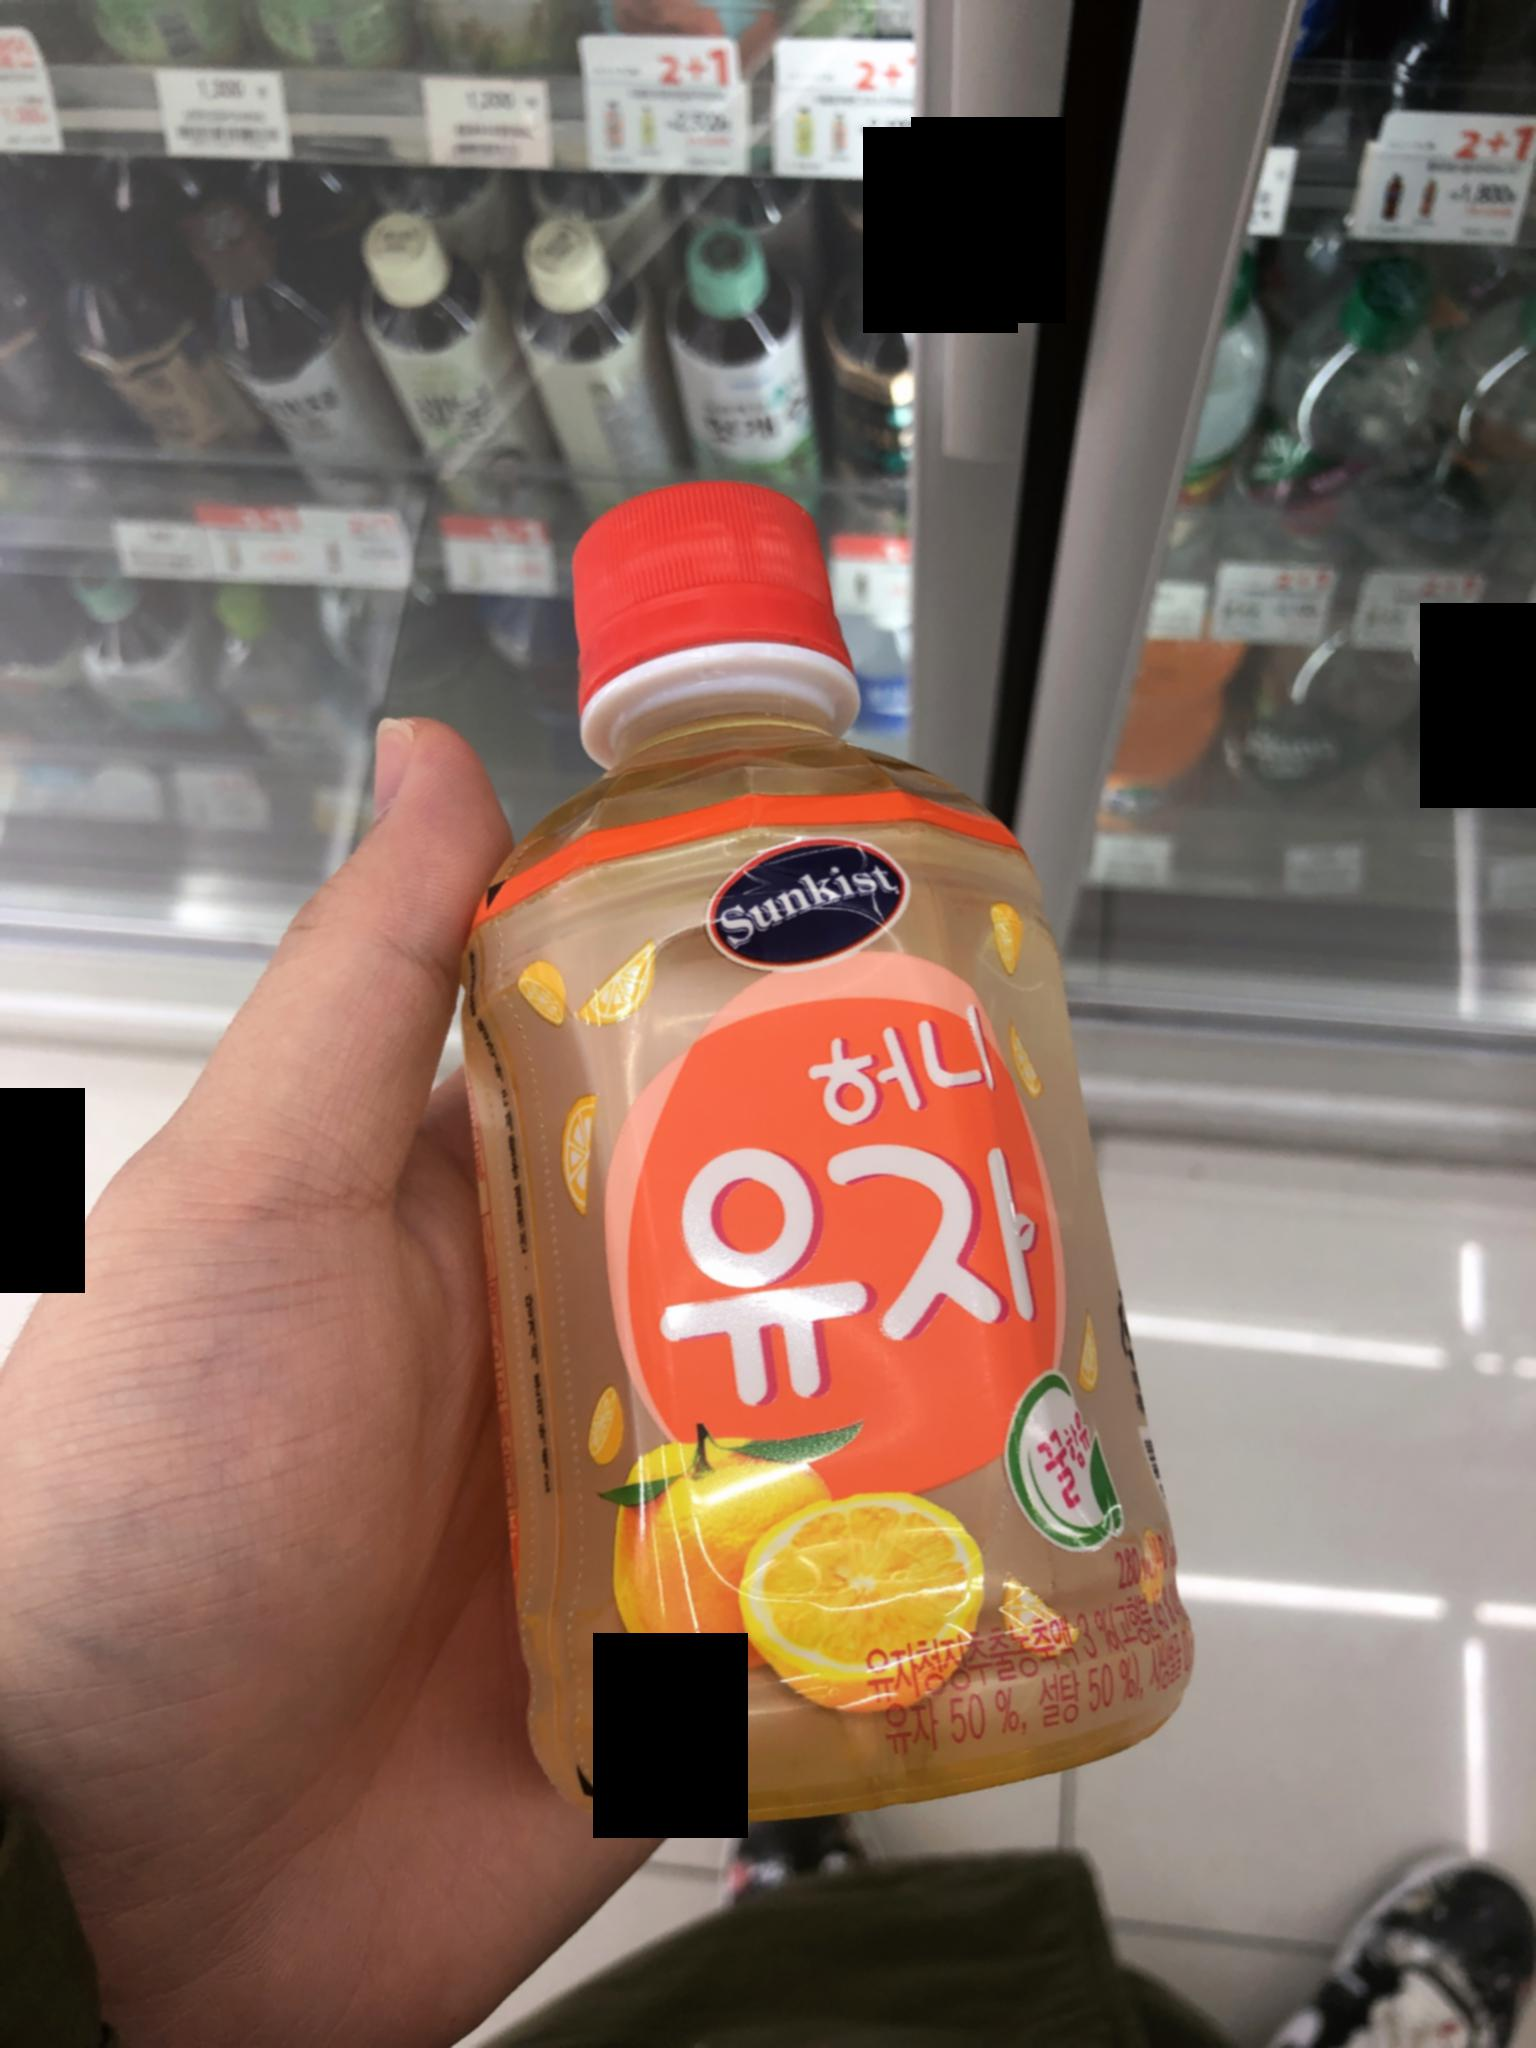honeyyuja: (294, 419, 1260, 1879)
